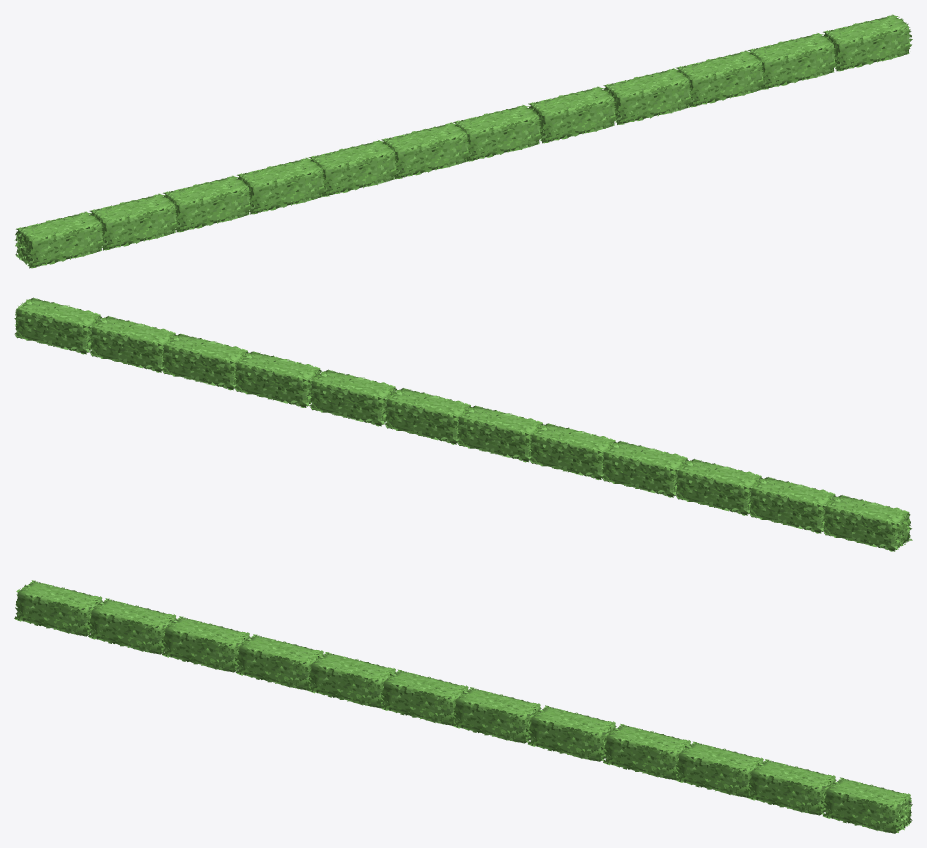
The model's file is BUSH1.fbx.
The picture shows the model from 3 angles, top to bottom: view 1: azimuth 30°, elevation 25°; view 2: azimuth 150°, elevation 25°; view 3: azimuth 330°, elevation 25°; orthographic projection.
Parts seen in each view (by area): view 1: Cube.589; view 2: Cube.589; view 3: Cube.589.
Part boxes in pixels (left/top/right/bottom): Cube.589: left=14, top=14, right=912, bottom=268; Cube.589: left=14, top=297, right=912, bottom=551; Cube.589: left=14, top=580, right=912, bottom=833.
Size of the model in its own units: 44338 by 1469 by 1477.
